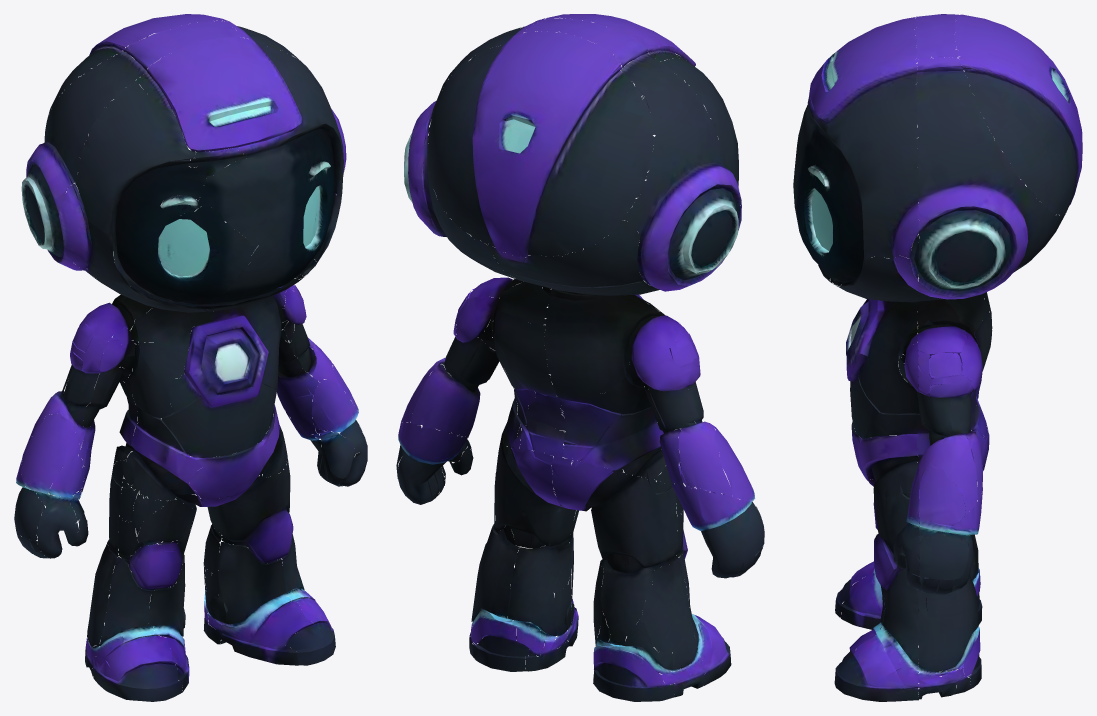
File: avatar-aurora.glb
3 renders of one model, left to right at view 1: azimuth 30°, elevation 25°; view 2: azimuth 150°, elevation 25°; view 3: azimuth 270°, elevation 25°, orthographic. The views are drawn at different scales.
Visible parts, largest first — view 1: tripo_node_5f601b7f-a4ae-4ed2-9cb3-b53acde3ca31; view 2: tripo_node_5f601b7f-a4ae-4ed2-9cb3-b53acde3ca31; view 3: tripo_node_5f601b7f-a4ae-4ed2-9cb3-b53acde3ca31.
Boxes of the visible parts, <box> form: tripo_node_5f601b7f-a4ae-4ed2-9cb3-b53acde3ca31: <box>14,14,367,701</box>; tripo_node_5f601b7f-a4ae-4ed2-9cb3-b53acde3ca31: <box>396,14,764,701</box>; tripo_node_5f601b7f-a4ae-4ed2-9cb3-b53acde3ca31: <box>793,14,1082,701</box>.
Size of the model in its own units: 0.5809 by 1 by 0.4233.
1 material, 1 textured.
